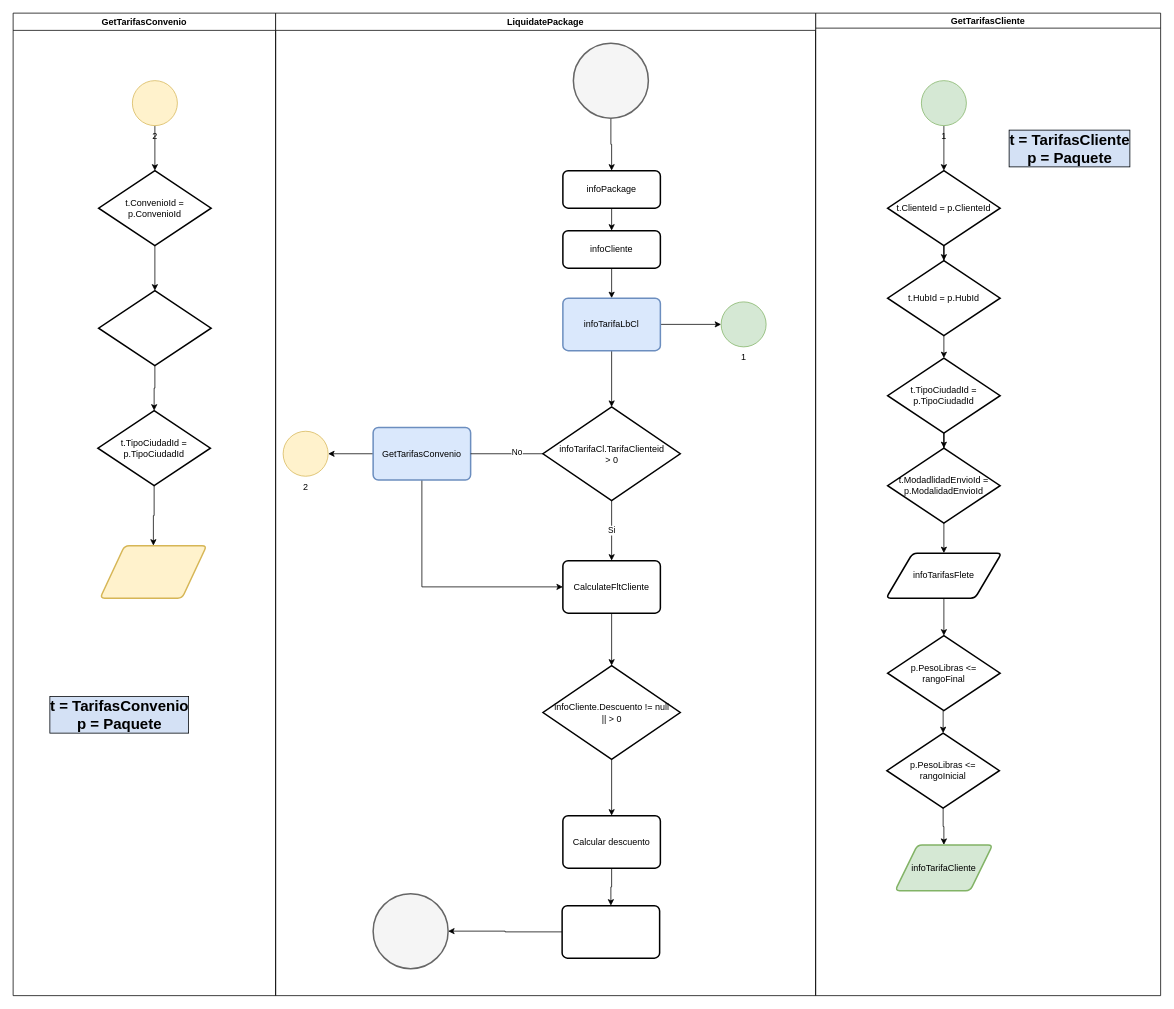
Some shapes in this 1174 by 1009 pixel diagram are drawn without their labels. Each missing label, with the centre of its shape:
"Calcular seguro" belongs at pixel 610 931.
"Fin" belongs at pixel 410 930.
"infoTarifaConvenio" belongs at pixel 153 571.
"Inicio" belongs at pixel 610 80.
"t.PaisId = p.PaisId" belongs at pixel 155 328.
